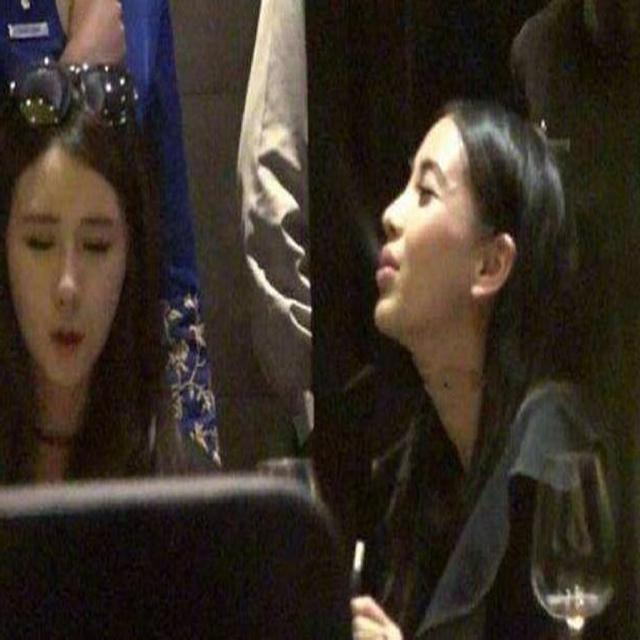smoking: (327, 95, 567, 600)
